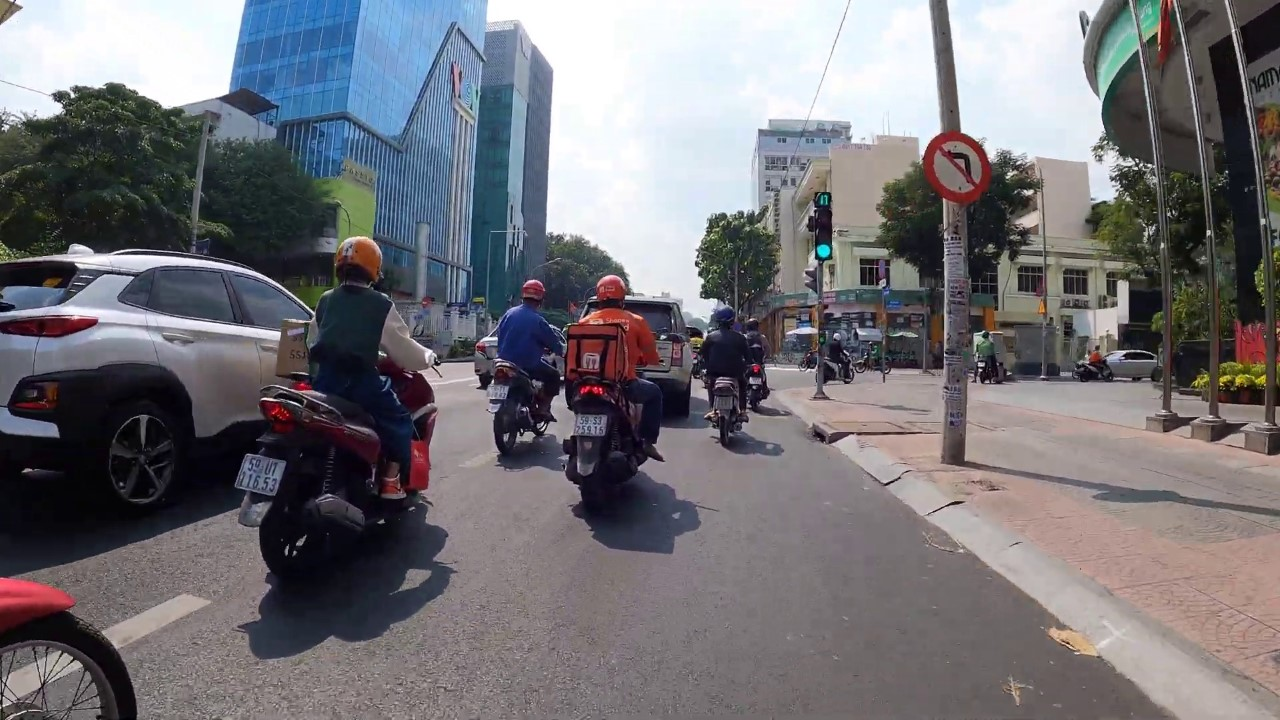cam_re_trai: (922, 131, 991, 205)
